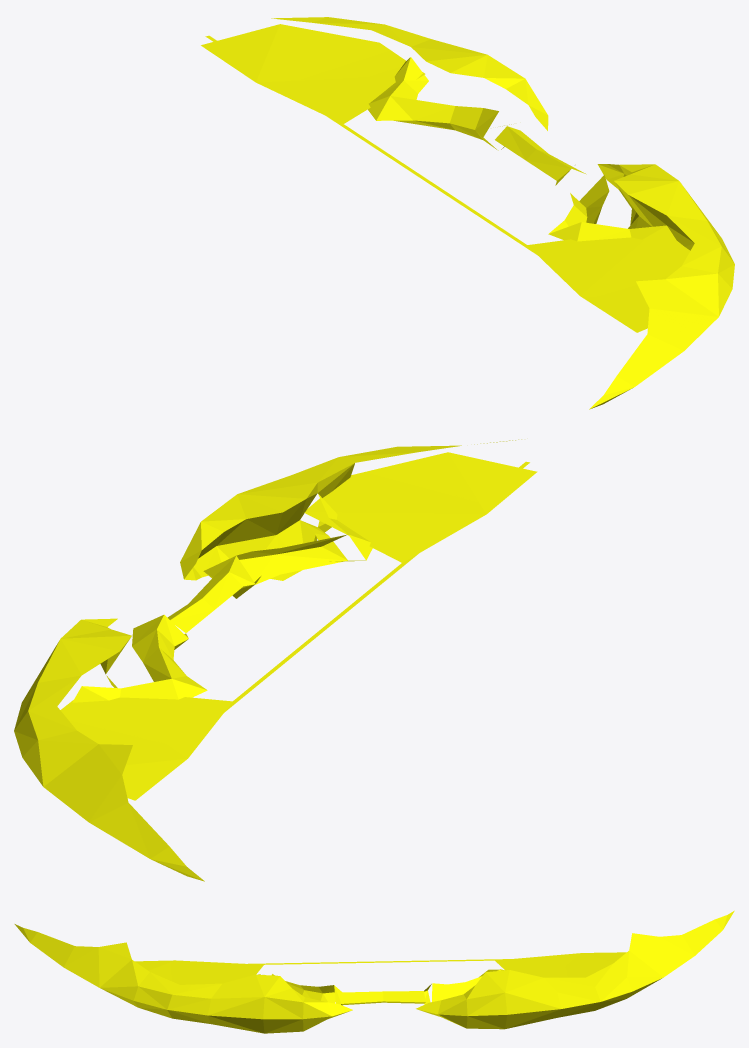
Rendered from bow2.glb.
3 renders of one model, top to bottom at view 1: azimuth 30°, elevation 25°; view 2: azimuth 150°, elevation 25°; view 3: azimuth 270°, elevation 25°, orthographic. The views are drawn at different scales.
Parts seen in each view (by area): view 1: bow; view 2: bow; view 3: bow.
Boxes of the visible parts, x1,y1,x2,y2 form: bow: [201, 17, 734, 409]; bow: [14, 439, 537, 881]; bow: [14, 910, 734, 1033].
Size of the model in its own units: 0.00874 by 0.00186 by 0.0244.
1 material, 1 textured.
